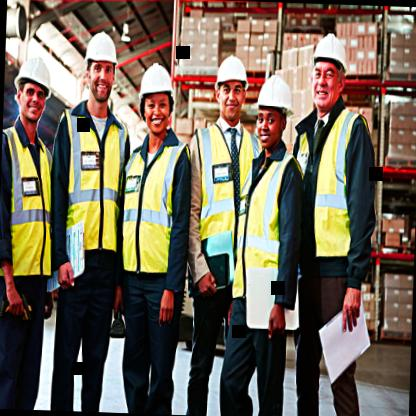helmet: (302, 28, 356, 115), (10, 42, 61, 132), (130, 57, 180, 148), (249, 68, 300, 154), (207, 43, 257, 128), (80, 21, 124, 109)
